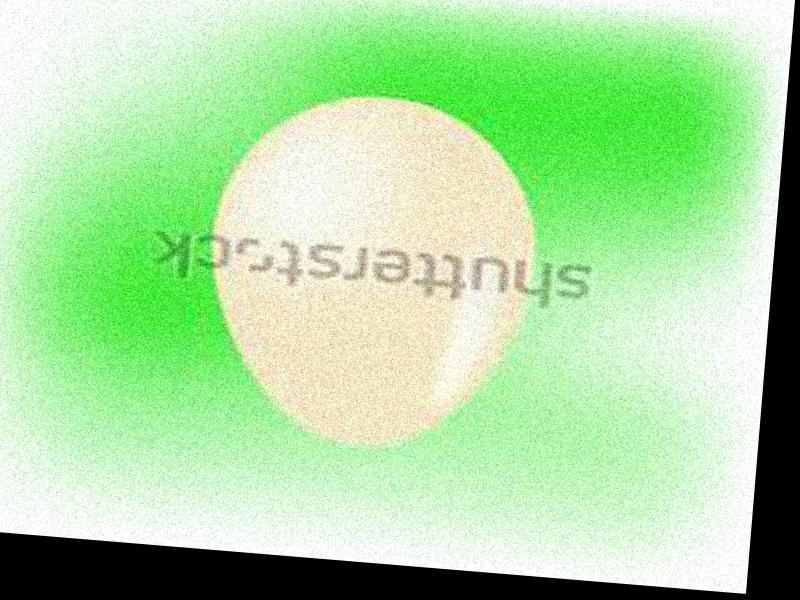Eggs: (195, 85, 545, 458)
